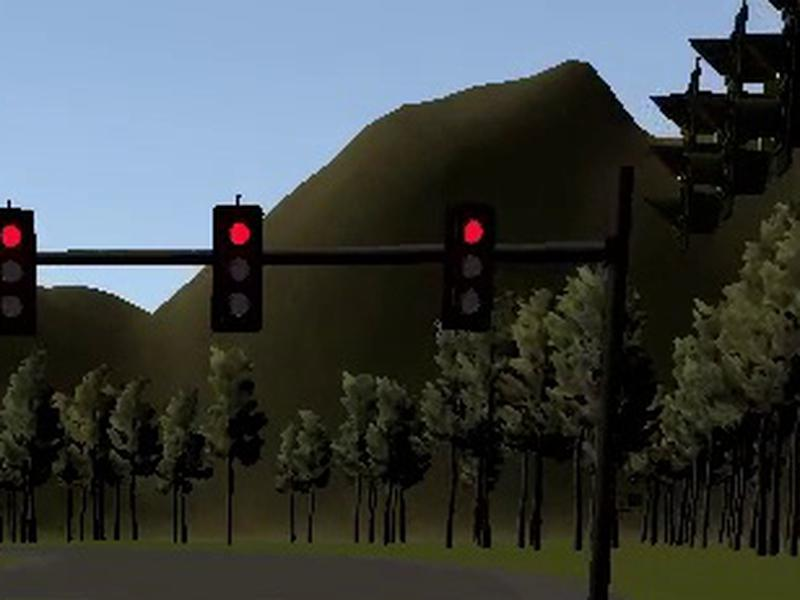Red: (440, 203, 497, 330), (210, 204, 263, 332), (1, 208, 35, 335)
